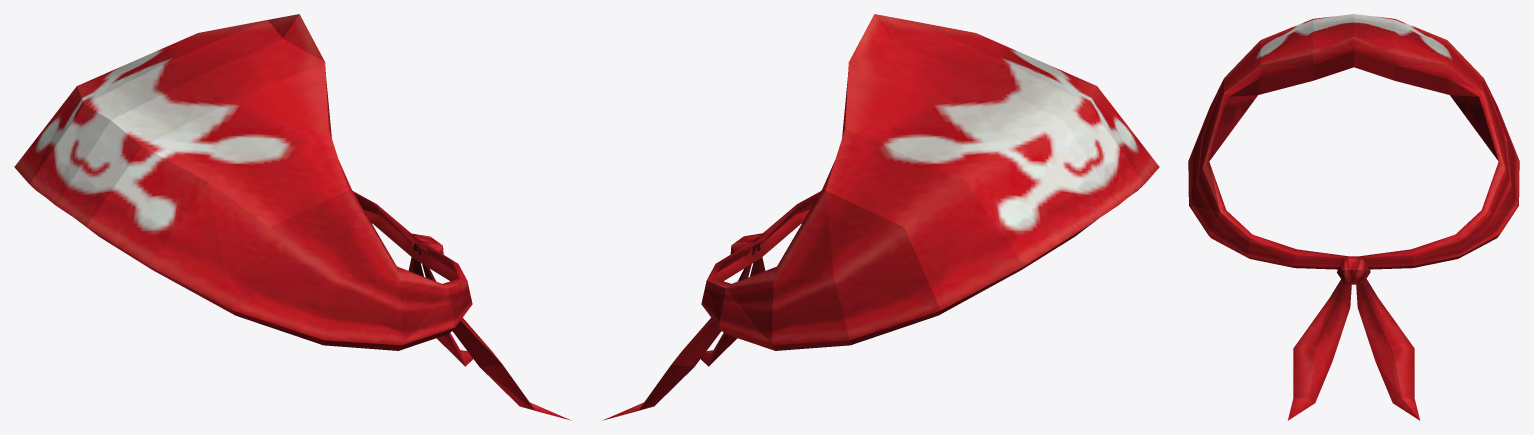
File: Mole_pirateBandana.obj
3 renders of one model, left to right at view 1: azimuth 30°, elevation 25°; view 2: azimuth 150°, elevation 25°; view 3: azimuth 270°, elevation 25°, orthographic. The views are drawn at different scales.
Visible parts, largest first — view 1: Mole_pirateBandana_tri; view 2: Mole_pirateBandana_tri; view 3: Mole_pirateBandana_tri.
Part boxes in pixels (left/top/right/bottom): Mole_pirateBandana_tri: left=14, top=14, right=571, bottom=420; Mole_pirateBandana_tri: left=602, top=14, right=1159, bottom=420; Mole_pirateBandana_tri: left=1188, top=14, right=1519, bottom=420.
Bounding box in the file's own units: 0.3345 × 0.2908 × 0.2858.
Materials: 1 (1 with a texture image).
